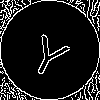Y: (25, 25, 76, 81)
